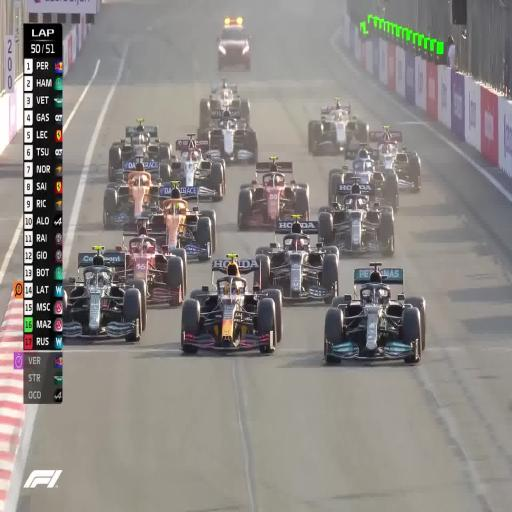f1_car: (323, 262, 426, 363), (181, 254, 282, 353), (62, 246, 146, 341), (255, 215, 339, 303), (116, 218, 187, 308), (318, 183, 394, 255), (148, 182, 216, 260), (237, 156, 309, 229), (108, 118, 175, 181), (103, 169, 172, 229), (328, 156, 399, 212), (171, 133, 225, 201), (369, 125, 420, 192), (198, 110, 258, 164), (308, 103, 368, 157), (199, 78, 250, 129), (217, 16, 250, 70), (358, 148, 368, 156), (339, 184, 347, 188), (138, 162, 142, 169), (182, 193, 187, 196), (366, 189, 368, 191), (192, 193, 195, 194), (196, 195, 197, 197), (267, 257, 267, 260), (167, 176, 168, 176)
